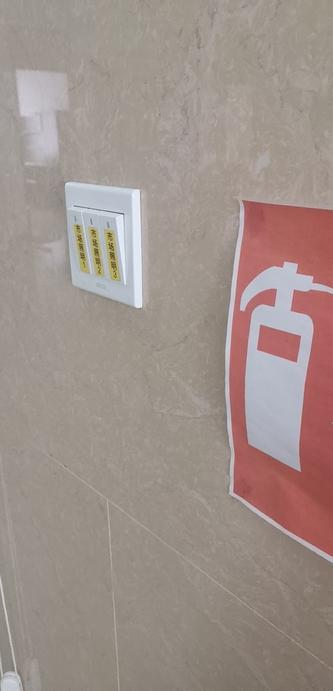switch: (96, 207, 129, 291), (62, 200, 90, 283), (79, 204, 106, 287)
